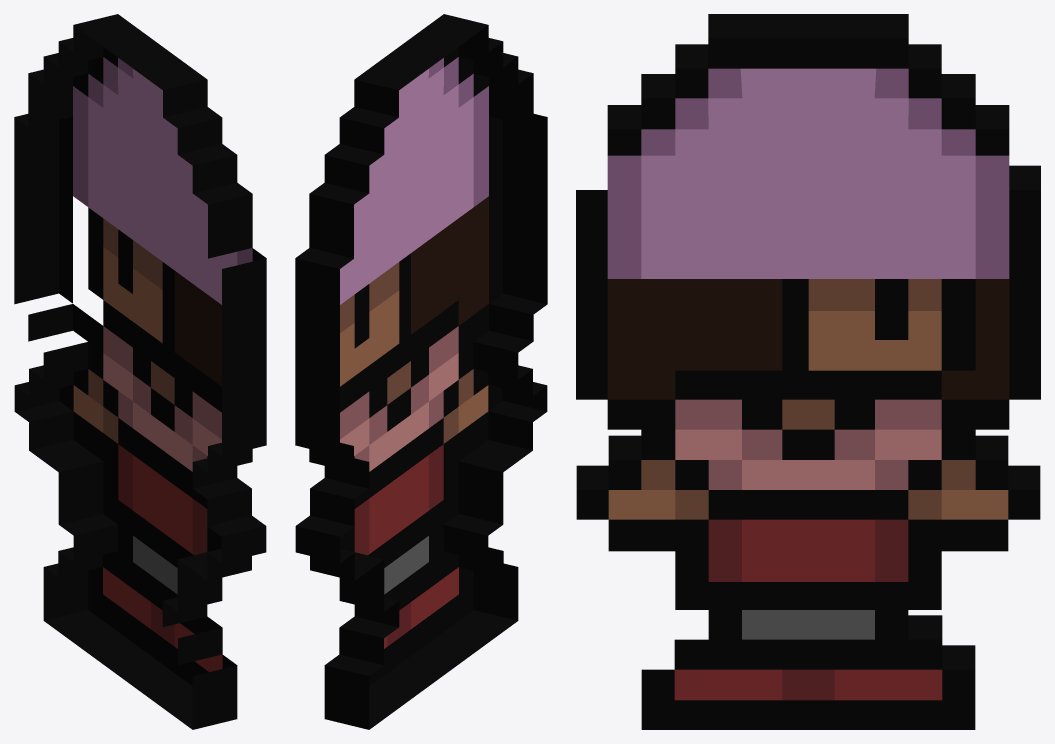
The model's file is Side view Melisssa.fbx.
3 views of the same model, side by side, from view 1: azimuth 30°, elevation 25°; view 2: azimuth 150°, elevation 25°; view 3: azimuth 270°, elevation 25° (orthographic). The views are drawn at different scales.
Visible parts, largest first — view 1: Plane; view 2: Plane; view 3: Plane.
Part boxes in pixels (x1=…): Plane: x1=14, y1=14, x2=266, y2=729; Plane: x1=295, y1=14, x2=547, y2=729; Plane: x1=576, y1=14, x2=1040, y2=729.
Size of the model in its own units: 36.25 by 480 by 292.
